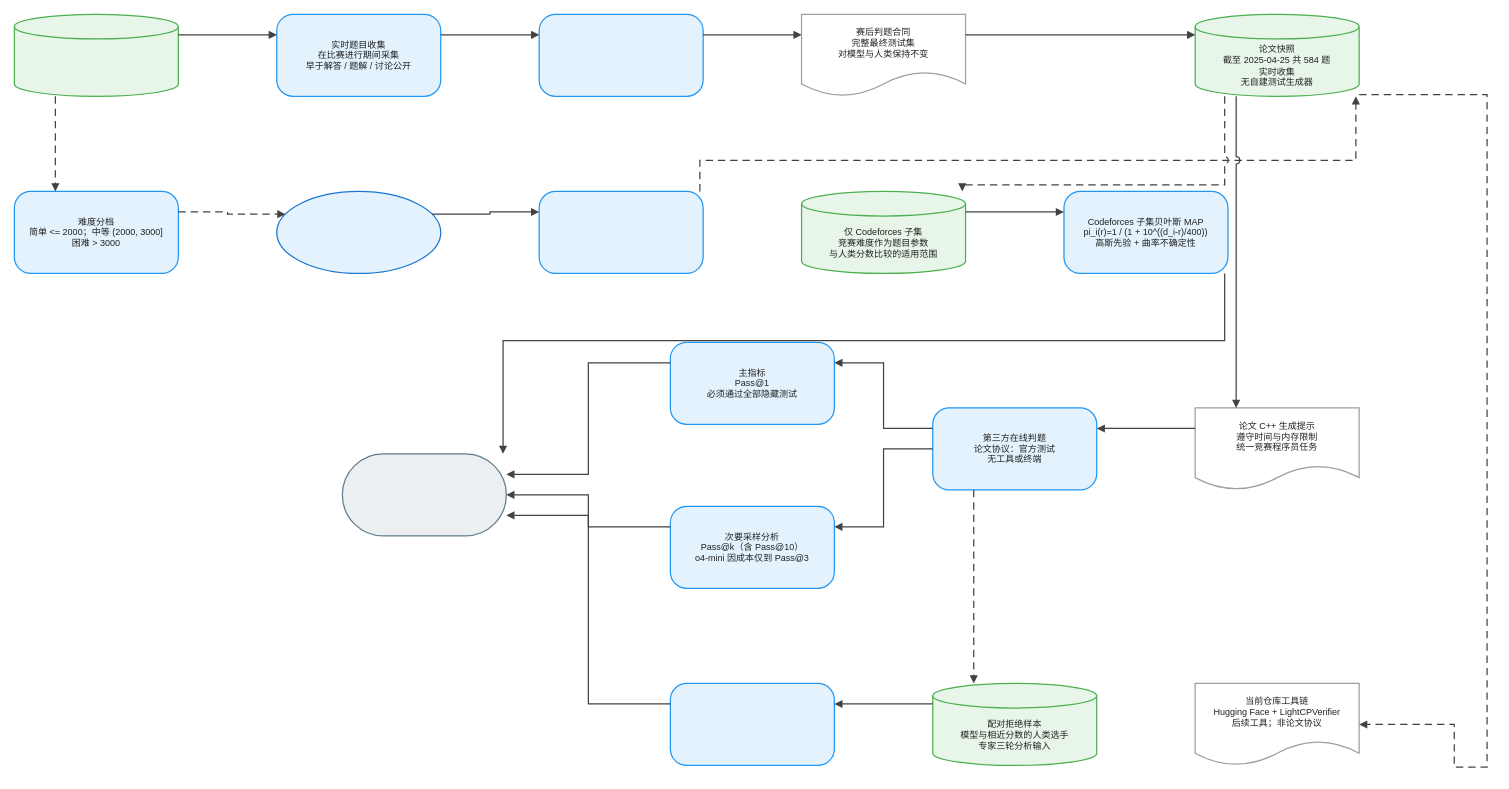
The diagram is 1509 pixels wide and 789 high, and some of its shapes have lost their labels. The shapes that lost their labels are listed below. From the top down, each one's centre as x and y in pixels, then its label:
At [96,55]: "实时竞赛来源 Codeforces + ICPC + IOI 其他高校竞赛 明确排除 LeetCode".
At [620,55]: "竞赛主办方质量门 协调员 + 至少 2 名专家 压测 选手 Hack".
At [358,232]: "专家标注 算法标签 + 知识 / 逻辑 观察型认知标签".
At [620,232]: "三盲共识 + 专家交叉检查 主标签与次标签 独立专家复核".
At [424,494]: "LiveCodeBench Pro 结果 Pass@1 + 采样分析 MAP 分数 + 失败诊断".
At [752,724]: "逐行失败分析 125 个 o3-mini + 125 个人类失败 算法与实现根因".
